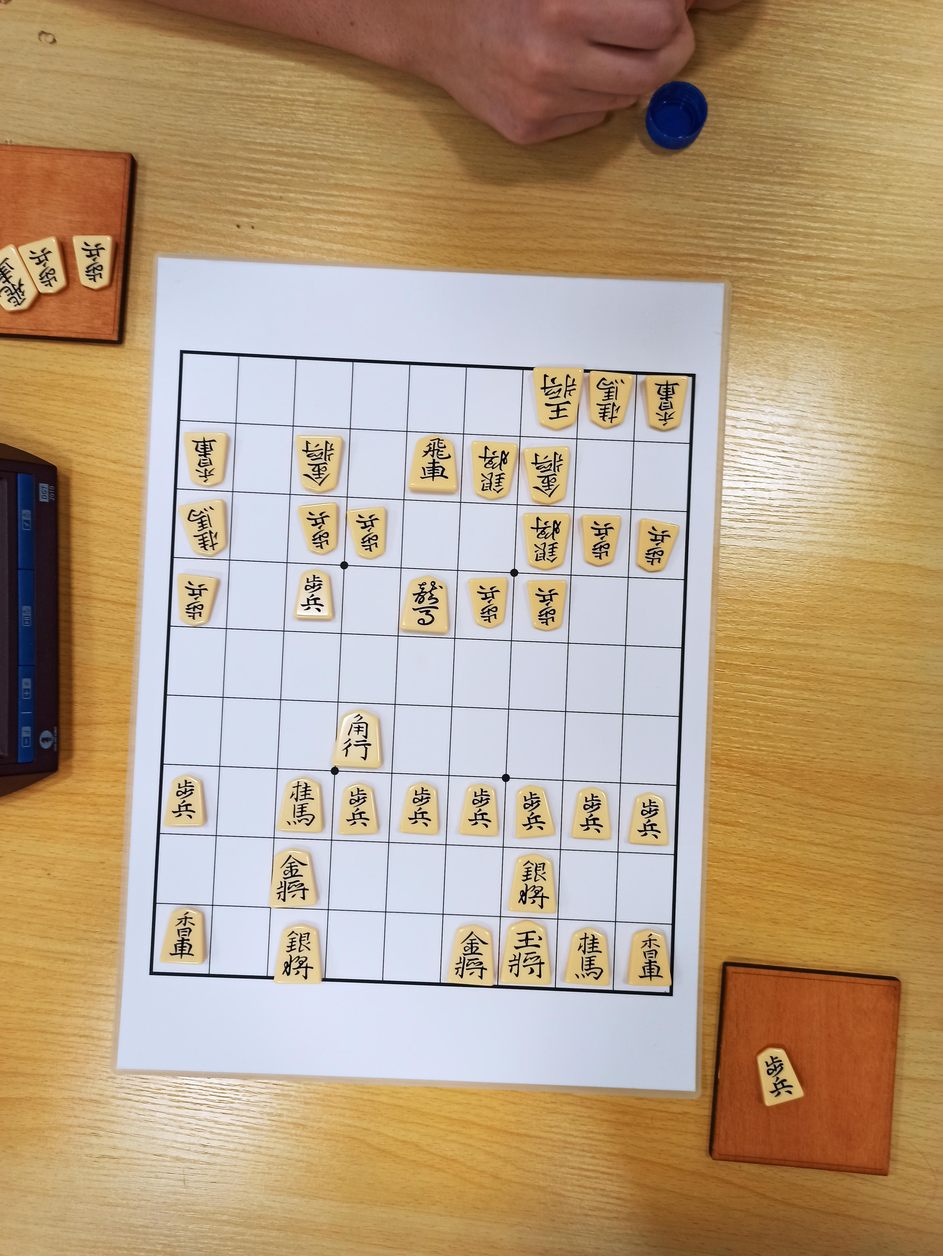board: (151, 352, 693, 994)
